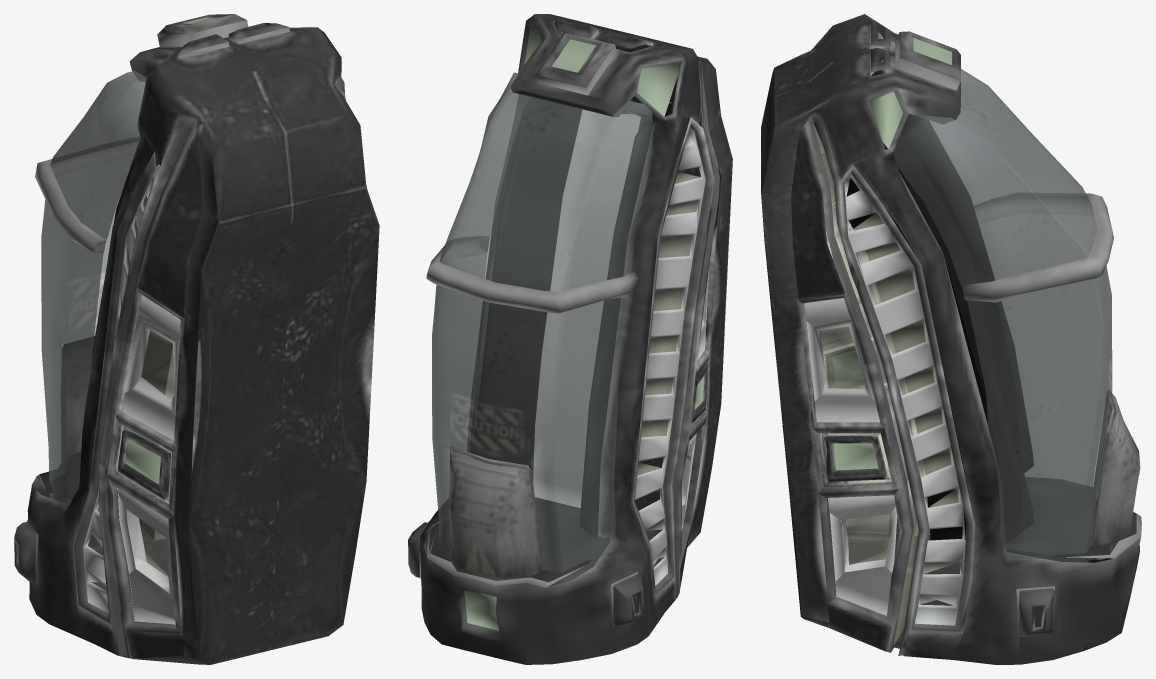
Rendered from cryo_chamber.glb.
3 views of the same model, side by side, from view 1: azimuth 30°, elevation 25°; view 2: azimuth 150°, elevation 25°; view 3: azimuth 270°, elevation 25° (orthographic). The views are drawn at different scales.
Visible parts, largest first — view 1: cryo_chamber; view 2: cryo_chamber; view 3: cryo_chamber.
Boxes of the visible parts, x1,y1,x2,y2 form: cryo_chamber: [14, 14, 379, 664]; cryo_chamber: [408, 14, 732, 664]; cryo_chamber: [761, 14, 1141, 664].
Size of the model in its own units: 0.8877 by 2 by 1.21.
Materials: 10 (8 with a texture image).
